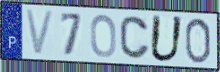7: (59, 11, 84, 57)
C: (118, 15, 151, 61)
O: (89, 13, 118, 60), (184, 17, 212, 65)
U: (148, 14, 185, 65)
V: (24, 7, 56, 57)
